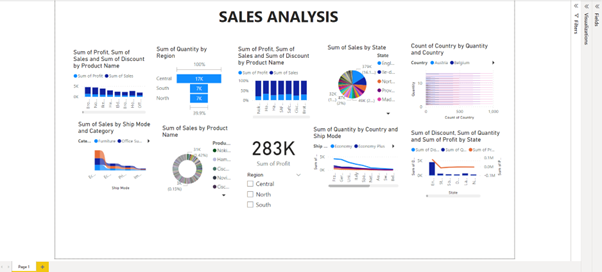

The page's visual inventory and layout, read from the dashboard file:
{"tool":"powerbi","page":{"name":"Page 1","canvas":[1280,720],"ordinal":0},"visuals":[{"type":"columnChart","fields":{"Category":["OrderBreakdown.Product Name"],"Y":["Sum(OrderBreakdown.Profit)","Sum(OrderBreakdown.Sales)"]},"box":[45.7,134.2,212,186.7],"z":0},{"type":"clusteredBarChart","fields":{"Y":["CountNonNull(ListOfOrders.Country)"],"Category":["OrderBreakdown.Quantity","OrderBreakdown.Sales"],"Series":["ListOfOrders.Country"]},"box":[988.2,116.7,253.9,220.8],"z":1000},{"type":"funnel","fields":{"Category":["ListOfOrders.Region"],"Y":["Sum(OrderBreakdown.Quantity)"]},"box":[277.2,125.5,195.5,203.3],"z":2000},{"type":"ribbonChart","fields":{"Category":["ListOfOrders.Ship Mode"],"Y":["Sum(OrderBreakdown.Sales)"],"Series":["OrderBreakdown.Category"]},"box":[59.3,334.6,217.9,198.4],"z":3000},{"type":"hundredPercentStackedColumnChart","fields":{"Category":["OrderBreakdown.Product Name"],"Y":["Sum(OrderBreakdown.Profit)","Sum(OrderBreakdown.Sales)"]},"box":[504.8,125.5,211.1,209.1],"z":4000},{"type":"donutChart","fields":{"Y":["Sum(OrderBreakdown.Sales)"],"Category":["OrderBreakdown.Product Name"]},"box":[293.7,345.3,211.1,211.1],"z":5000},{"type":"pieChart","fields":{"Y":["Sum(OrderBreakdown.Sales)"],"Category":["ListOfOrders.State"]},"box":[754.8,120.6,208.1,208.1],"z":6000},{"type":"card","fields":{"Values":["Sum(OrderBreakdown.Profit)"]},"box":[526.2,358.9,164.4,114.8],"z":7000},{"type":"lineChart","fields":{"Category":["ListOfOrders.Country"],"Y":["Sum(OrderBreakdown.Quantity)"],"Series":["ListOfOrders.Ship Mode"]},"box":[715.9,349.2,247.1,177],"z":8000},{"type":"lineStackedColumnComboChart","fields":{"Category":["ListOfOrders.State"],"Y2":["Sum(OrderBreakdown.Profit)"],"Y":["Sum(OrderBreakdown.Discount)","Sum(OrderBreakdown.Quantity)"]},"box":[988.2,358.9,262.6,195.5],"z":9000},{"type":"slicer","fields":{"Values":["ListOfOrders.Region"]},"box":[523.3,473.7,175.1,149.8],"z":10000},{"type":"textbox","box":[293.7,9.7,658.5,68.1],"z":12000}]}

Visuals, with their boxes on the page's 1280x720 design canvas (x1, y1, x2, y2). These are canvas units, not pixel positions in the 602x272 screenshot, which may show the page scaled, cropped or inside an application window:
columnChart - OrderBreakdown.Product Name x Sum(OrderBreakdown.Profit): x1=46 y1=134 x2=258 y2=321
clusteredBarChart - CountNonNull(ListOfOrders.Country) x OrderBreakdown.Quantity: x1=988 y1=117 x2=1242 y2=338
funnel - ListOfOrders.Region x Sum(OrderBreakdown.Quantity): x1=277 y1=126 x2=473 y2=329
ribbonChart - ListOfOrders.Ship Mode x Sum(OrderBreakdown.Sales): x1=59 y1=335 x2=277 y2=533
hundredPercentStackedColumnChart - OrderBreakdown.Product Name x Sum(OrderBreakdown.Profit): x1=505 y1=126 x2=716 y2=335
donutChart - Sum(OrderBreakdown.Sales) x OrderBreakdown.Product Name: x1=294 y1=345 x2=505 y2=556
pieChart - Sum(OrderBreakdown.Sales) x ListOfOrders.State: x1=755 y1=121 x2=963 y2=329
card - Sum(OrderBreakdown.Profit): x1=526 y1=359 x2=691 y2=474
lineChart - ListOfOrders.Country x Sum(OrderBreakdown.Quantity): x1=716 y1=349 x2=963 y2=526
lineStackedColumnComboChart - ListOfOrders.State x Sum(OrderBreakdown.Profit): x1=988 y1=359 x2=1251 y2=554
slicer - ListOfOrders.Region: x1=523 y1=474 x2=698 y2=624
textbox: x1=294 y1=10 x2=952 y2=78
